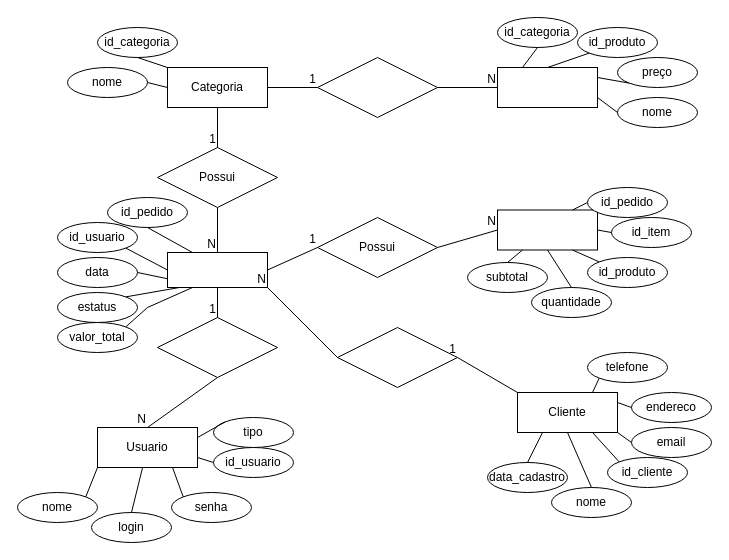
Image size: 729x560. Some labels were removed from this diagram. The box of each missing label's shape, as (x1, y1, x2, y2) in pixels:
fazer: (336, 326, 458, 388)
ItemPedido: (496, 209, 598, 250)
Pedido: (166, 252, 268, 288)
Pertence: (316, 56, 438, 118)
Produto: (496, 66, 598, 108)
Registra: (156, 316, 278, 378)
